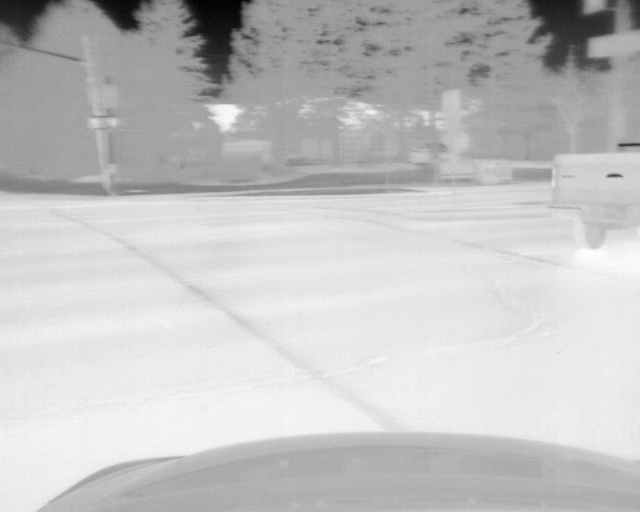car: (547, 139, 640, 249)
